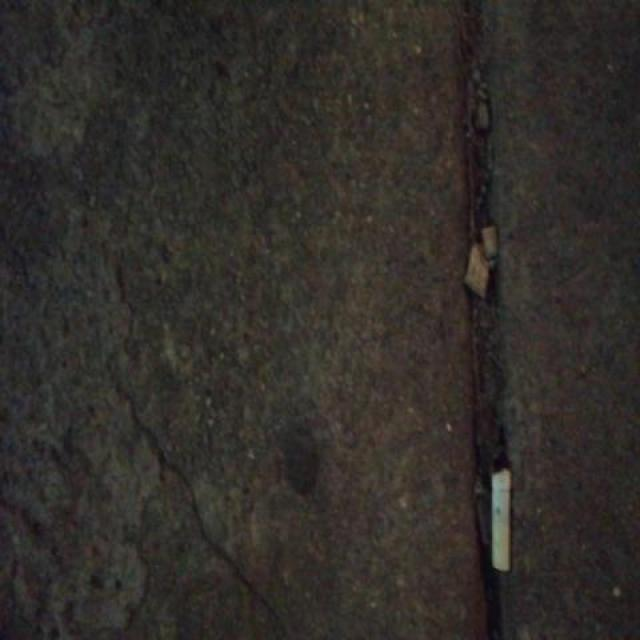non-organic waste: (488, 464, 516, 580)
